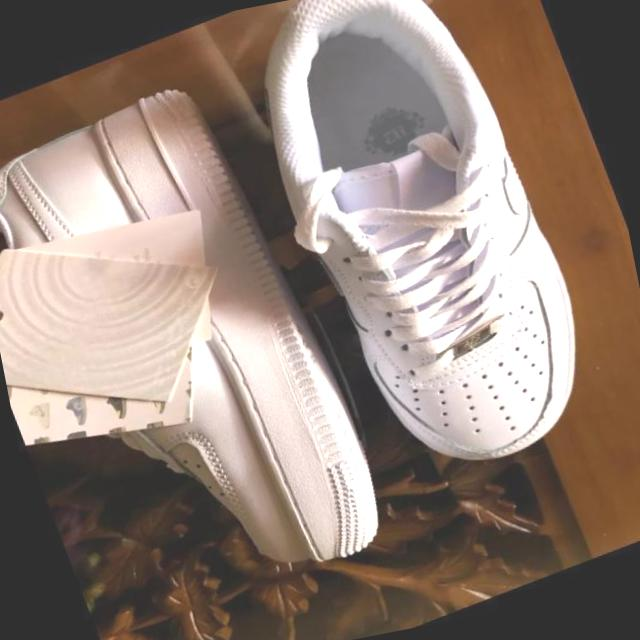nike_fake_airforce: (218, 0, 630, 513)
